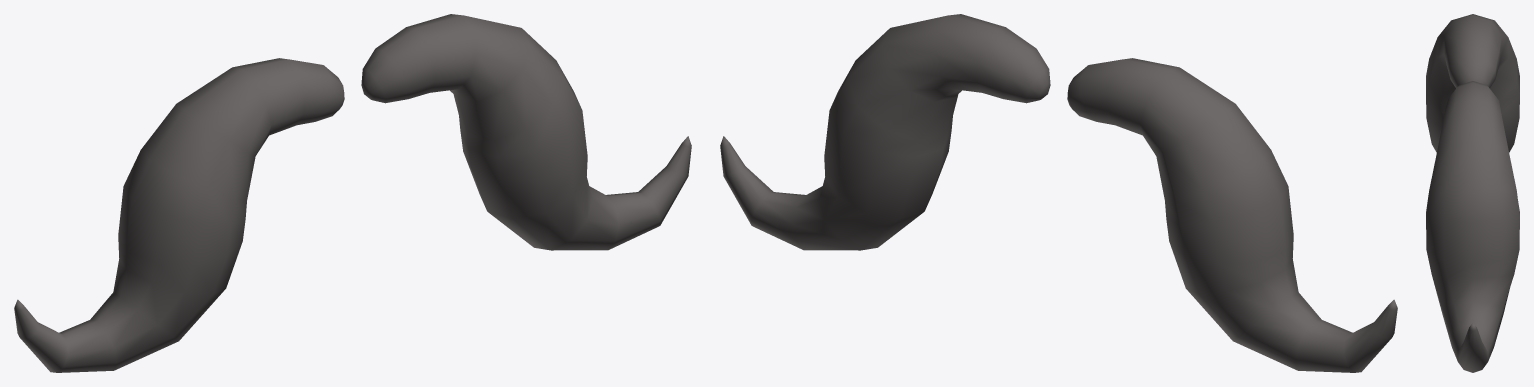
File: Beard_07_04.fbx
3 renders of one model, left to right at view 1: azimuth 30°, elevation 25°; view 2: azimuth 150°, elevation 25°; view 3: azimuth 270°, elevation 25°, orthographic. The views are drawn at different scales.
Visible parts, largest first — view 1: Beard_07_04; view 2: Beard_07_04; view 3: Beard_07_04.
Part boxes in pixels (left/top/right/bottom): Beard_07_04: left=14, top=14, right=691, bottom=372; Beard_07_04: left=720, top=14, right=1397, bottom=372; Beard_07_04: left=1426, top=14, right=1519, bottom=372.
Bounding box in the file's own units: 18.3 × 6.9 × 2.82.
